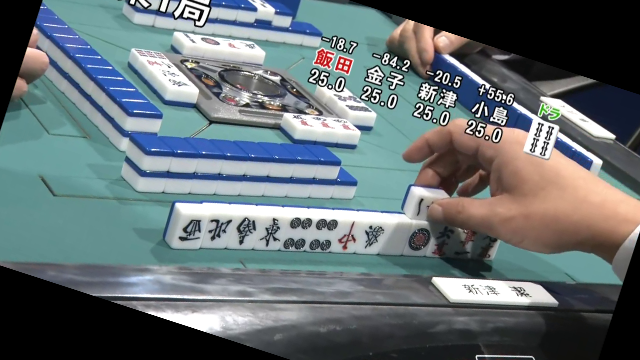Tehai: (157, 193, 505, 265)
